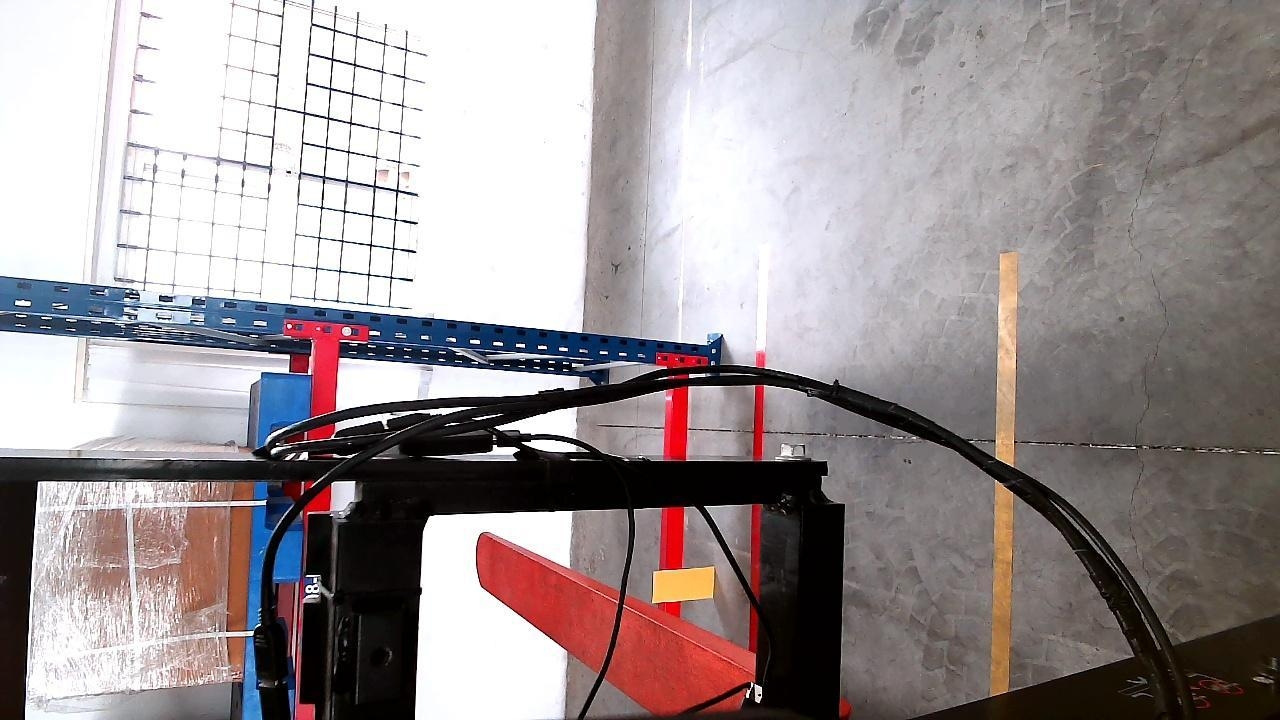red_line: (750, 242, 770, 457)
yellow_line: (989, 251, 1017, 720)
